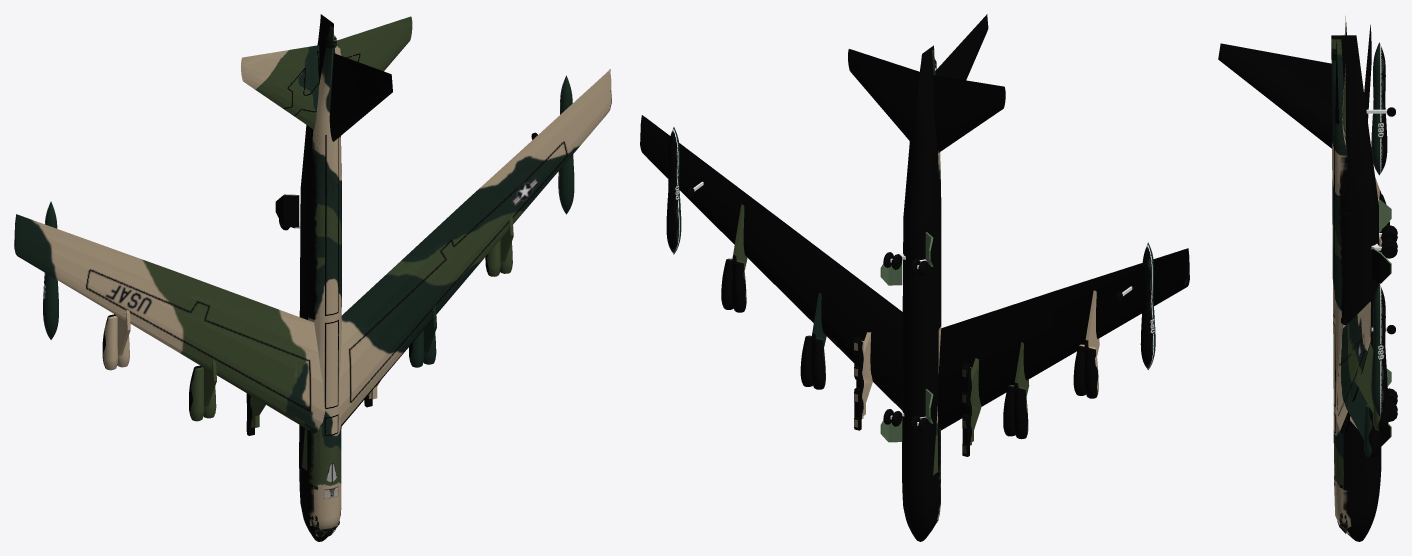
3 views of the same model, side by side, from view 1: azimuth 30°, elevation 25°; view 2: azimuth 150°, elevation 25°; view 3: azimuth 270°, elevation 25° (orthographic). The views are drawn at different scales.
Parts seen in each view (by area): view 1: B52_EHCO; view 2: B52_EHCO; view 3: B52_EHCO.
Boxes of the visible parts, box(x1,y1,x2,y2) form: B52_EHCO: box(14, 14, 611, 541); B52_EHCO: box(640, 14, 1189, 541); B52_EHCO: box(1218, 16, 1397, 541).
Size of the model in its own units: 2004 by 1695 by 545.
